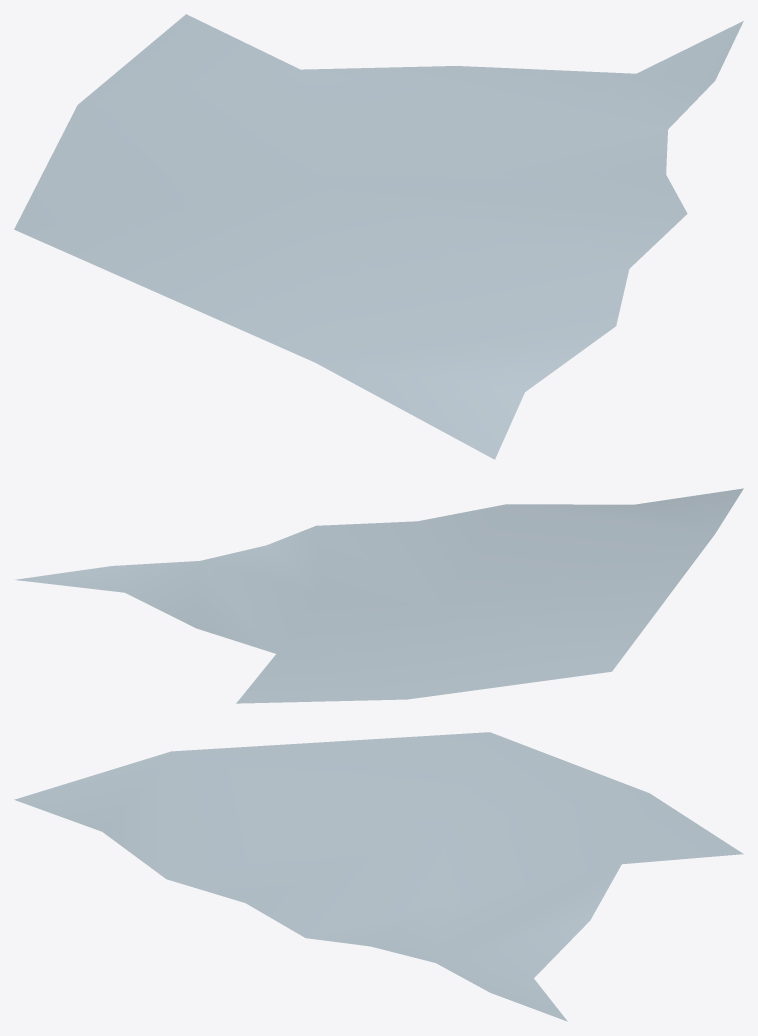
File: nieve5.fbx
3 renders of one model, top to bottom at view 1: azimuth 30°, elevation 25°; view 2: azimuth 150°, elevation 25°; view 3: azimuth 270°, elevation 25°, orthographic. The views are drawn at different scales.
Visible parts, largest first — view 1: Cylinder007; view 2: Cylinder007; view 3: Cylinder007.
Part boxes in pixels (x1,y1,x2,y2): Cylinder007: (14,14,743,459); Cylinder007: (15,488,743,703); Cylinder007: (14,732,743,1021).
Bounding box in the file's own units: 47.94 × 2.17 × 54.05.
